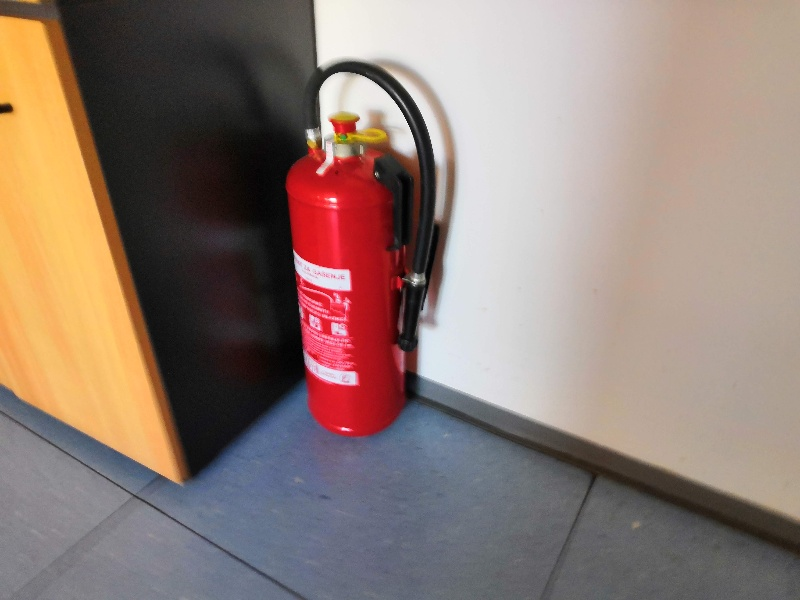vataparat: (287, 60, 438, 438)
